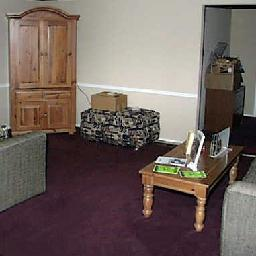Armario: (7, 10, 74, 129)
